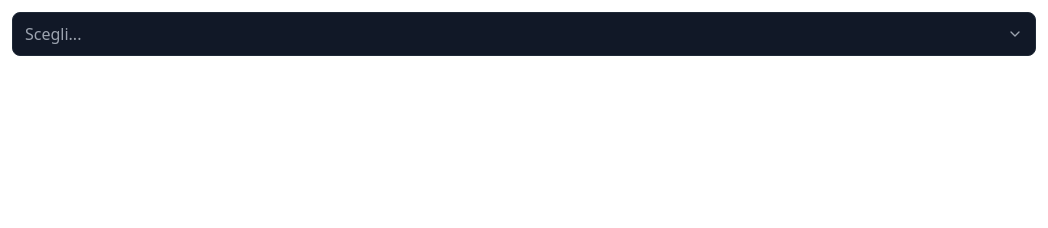
Test case: Select › navigates with ArrowDown and selects an item with Enter
Later steps or results of the test are not shown.
Click the dropdown named "Tecnologia di stampa". click: (53, 34)
box: [12, 12, 1036, 56]
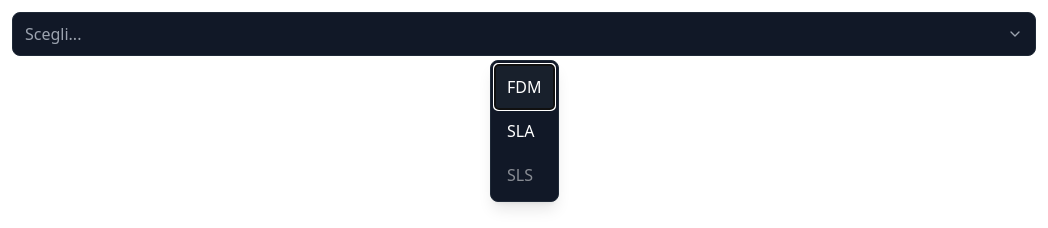
Result: the option "FDM" is shown
Press ArrowDown in the option "FDM", box [495, 65, 554, 109]
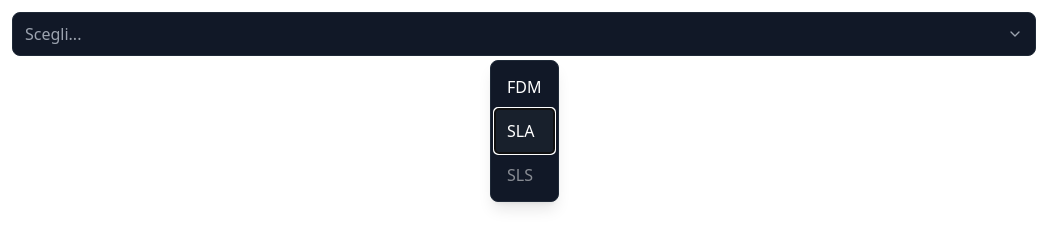
Result: the option "SLA" is shown at [495, 109, 554, 153]
